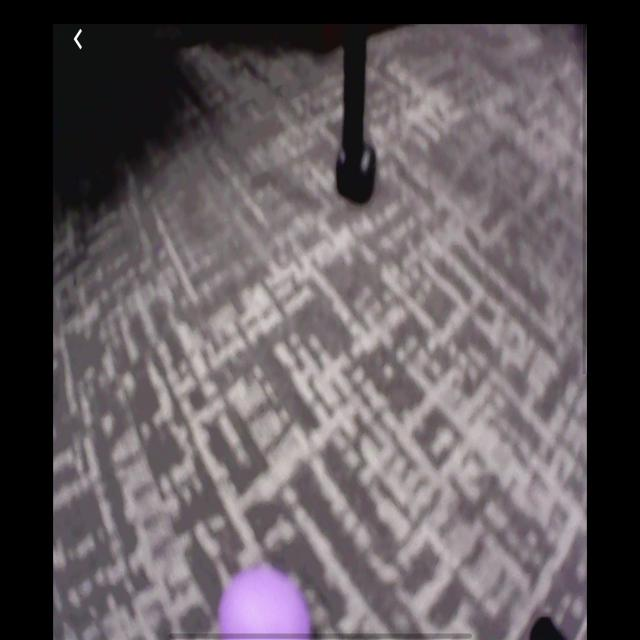ball: (218, 564, 310, 637)
